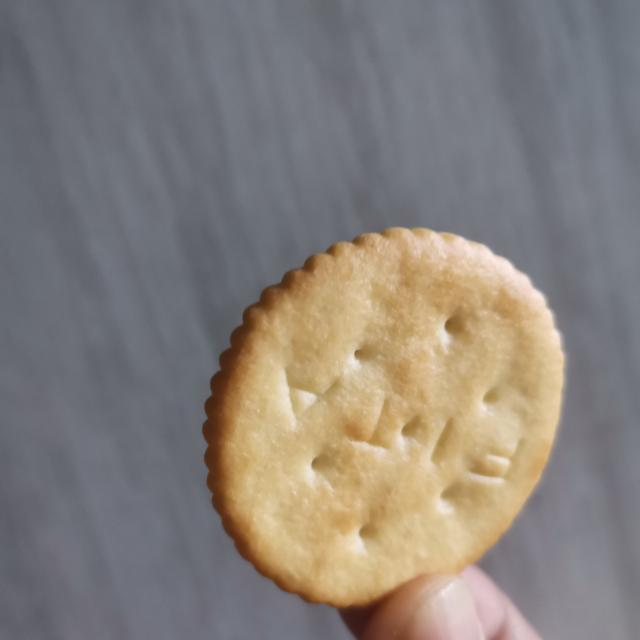Intact: (195, 219, 572, 622)
